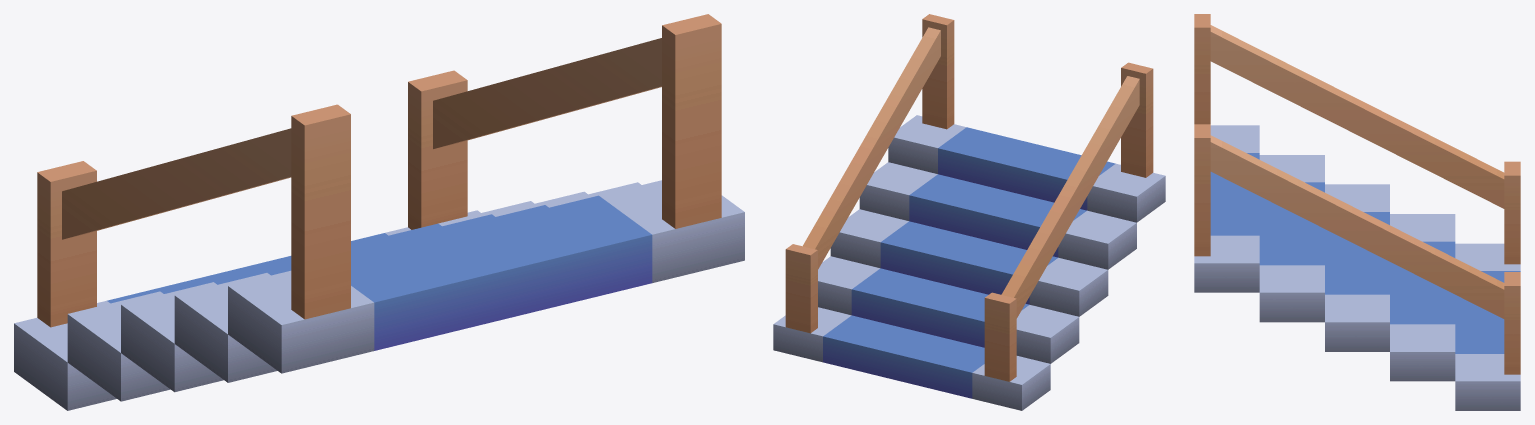
The model's file is queue-steps.glb.
The picture shows the model from 3 angles, left to right: view 1: azimuth 30°, elevation 25°; view 2: azimuth 150°, elevation 25°; view 3: azimuth 270°, elevation 25°; orthographic projection. The views are drawn at different scales.
Parts seen in each view (by area): view 1: queue-steps; view 2: queue-steps; view 3: queue-steps.
Part boxes in pixels (x1,y1,x2,y2): queue-steps: [14, 14, 744, 410]; queue-steps: [773, 14, 1165, 410]; queue-steps: [1194, 14, 1520, 410].
Bounding box in the file's own units: 1 × 0.9 × 1.
Materials: 1 (1 with a texture image).
